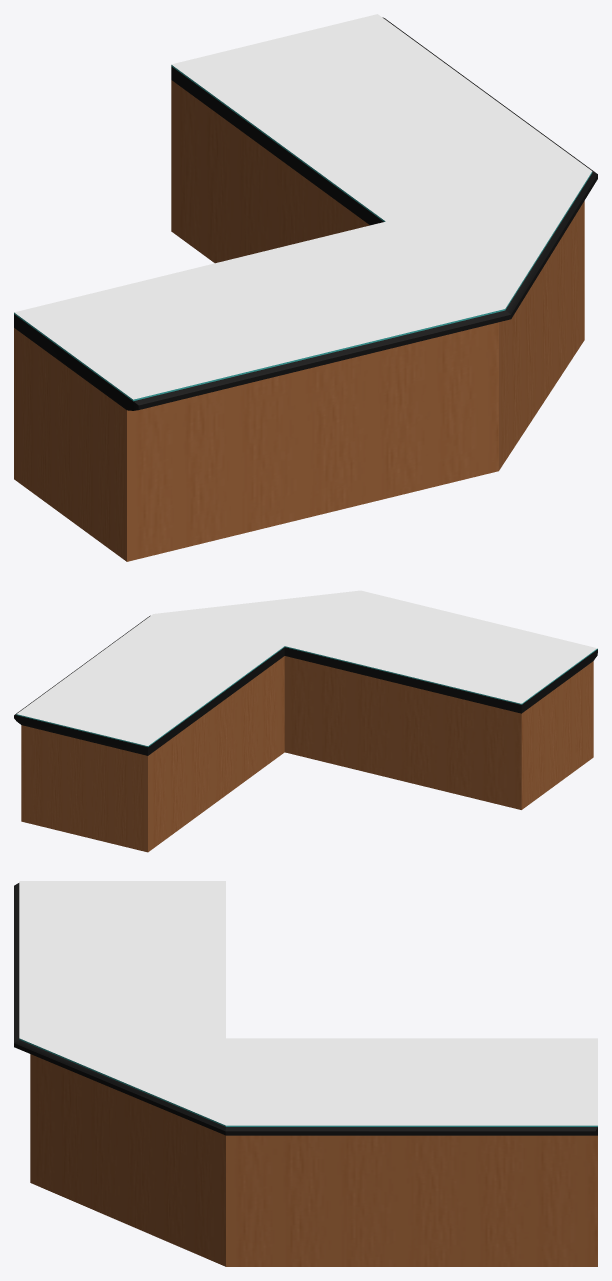
File: Counter_B_02.FBX
3 views of the same model, one above another, from view 1: azimuth 30°, elevation 25°; view 2: azimuth 150°, elevation 25°; view 3: azimuth 270°, elevation 25° (orthographic). The views are drawn at different scales.
Parts seen in each view (by area): view 1: Countertop_B; view 2: Countertop_B; view 3: Countertop_B.
Part boxes in pixels (x1,y1,x2,y2): Countertop_B: (14,14,597,561); Countertop_B: (14,590,597,852); Countertop_B: (14,881,597,1266).
Bounding box in the file's own units: 549 × 150 × 550.
